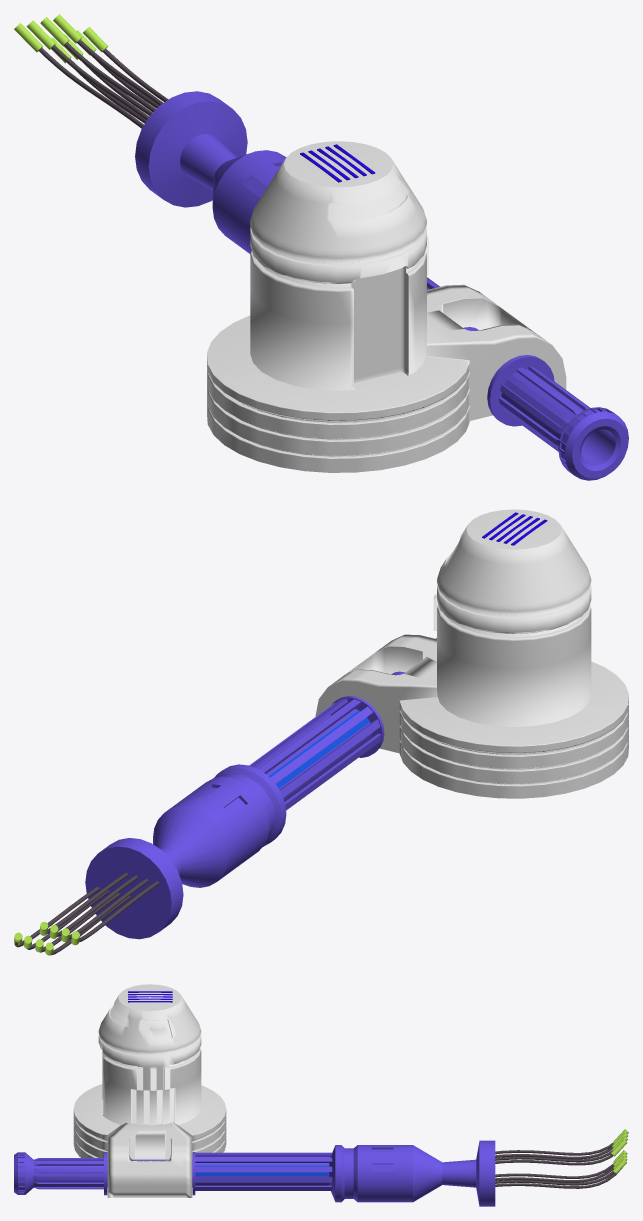
File: Power.fbx
The picture shows the model from 3 angles, top to bottom: view 1: azimuth 30°, elevation 25°; view 2: azimuth 150°, elevation 25°; view 3: azimuth 270°, elevation 25°; orthographic projection. The views are drawn at different scales.
Visible parts, largest first — view 1: Power2, Power, Llumpowerline, BezierCurve.004, LlumsPowerSup; view 2: Power2, Power, Llumpowerline, BezierCurve.004, LlumsPowerSup; view 3: Llumpowerline, Power2, Power, BezierCurve.004, LlumsPowerSup.
Boxes of the visible parts, x1,y1,x2,y2 form: Power2: (250, 141, 428, 390); Power: (207, 284, 566, 472); Llumpowerline: (135, 91, 628, 480); BezierCurve.004: (14, 14, 168, 128); LlumsPowerSup: (300, 144, 375, 182); Power2: (433, 509, 591, 726); Power: (315, 634, 628, 798); Llumpowerline: (85, 638, 436, 939); BezierCurve.004: (14, 873, 159, 955); LlumsPowerSup: (482, 512, 547, 545); Llumpowerline: (14, 1140, 495, 1206); Power2: (98, 984, 201, 1125); Power: (73, 1084, 226, 1197); BezierCurve.004: (495, 1129, 628, 1188); LlumsPowerSup: (128, 991, 172, 1002).
Bounding box in the file's own units: 270 × 240 × 805.
